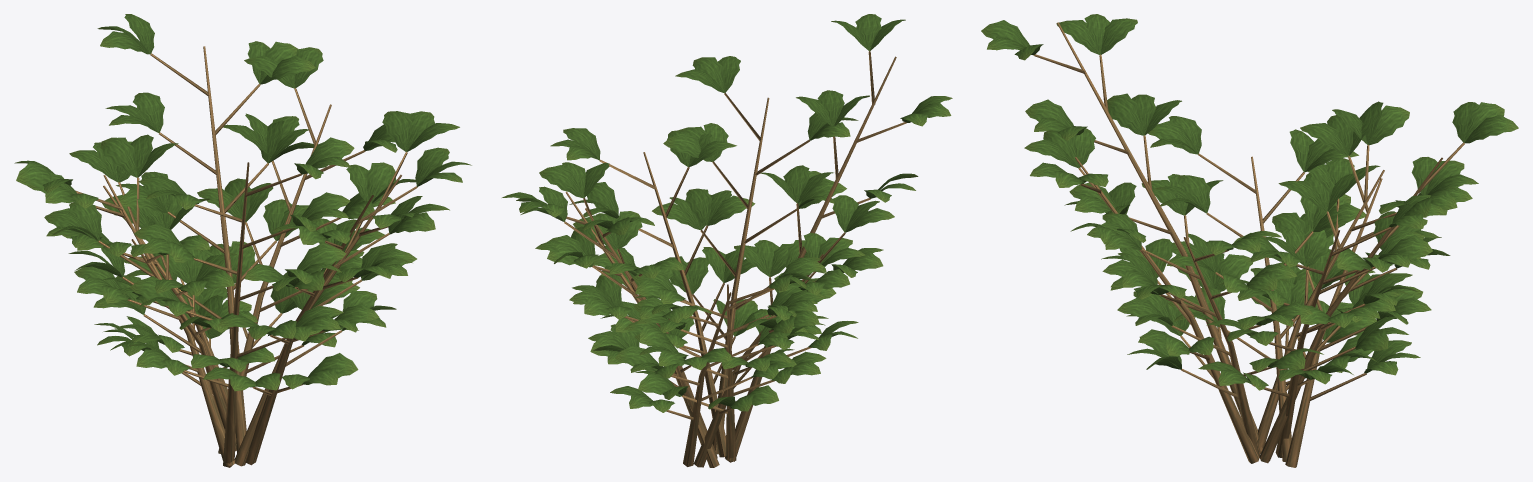
Rendered from HazelSeedling_B.fbx.
The picture shows the model from 3 angles, left to right: view 1: azimuth 30°, elevation 25°; view 2: azimuth 150°, elevation 25°; view 3: azimuth 270°, elevation 25°; orthographic projection. The views are drawn at different scales.
Visible parts, largest first — view 1: HazelSeedling_B_LOD0; view 2: HazelSeedling_B_LOD0; view 3: HazelSeedling_B_LOD0.
Boxes of the visible parts, box(x1,y1,x2,y2) form: HazelSeedling_B_LOD0: box(14, 14, 471, 467); HazelSeedling_B_LOD0: box(502, 14, 952, 467); HazelSeedling_B_LOD0: box(981, 14, 1518, 467).
Size of what is drawn, in the model's own units: 40.86 by 42.94 by 51.73.
Materials: 1 (1 with a texture image).
